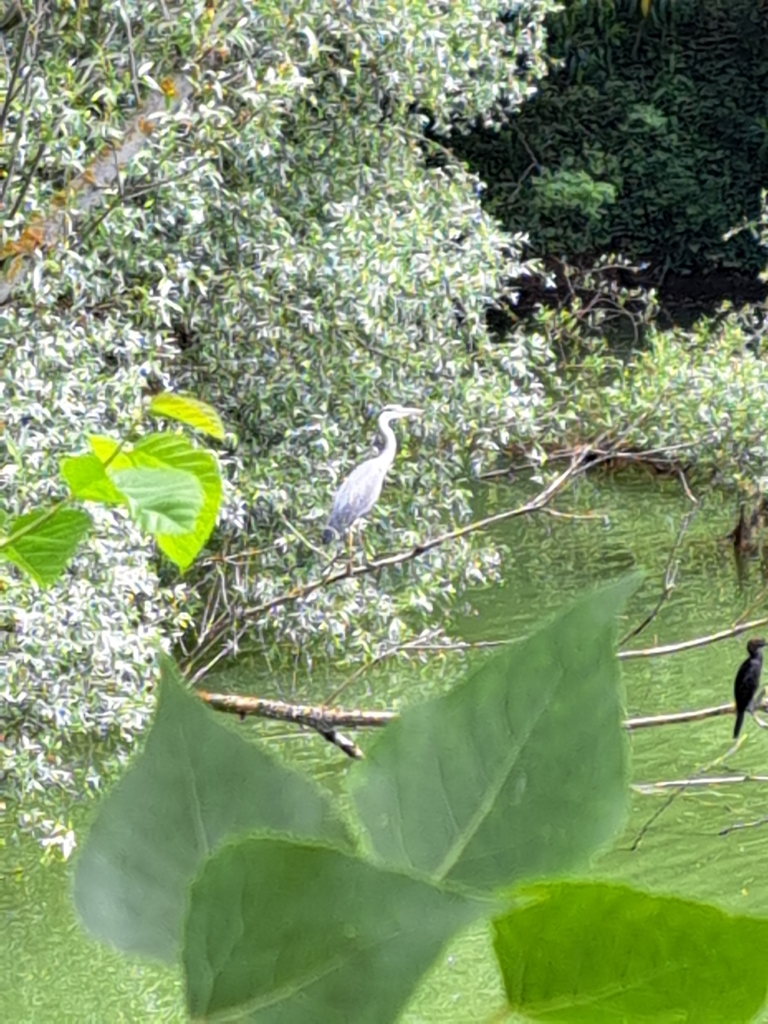heron: (321, 400, 427, 586)
